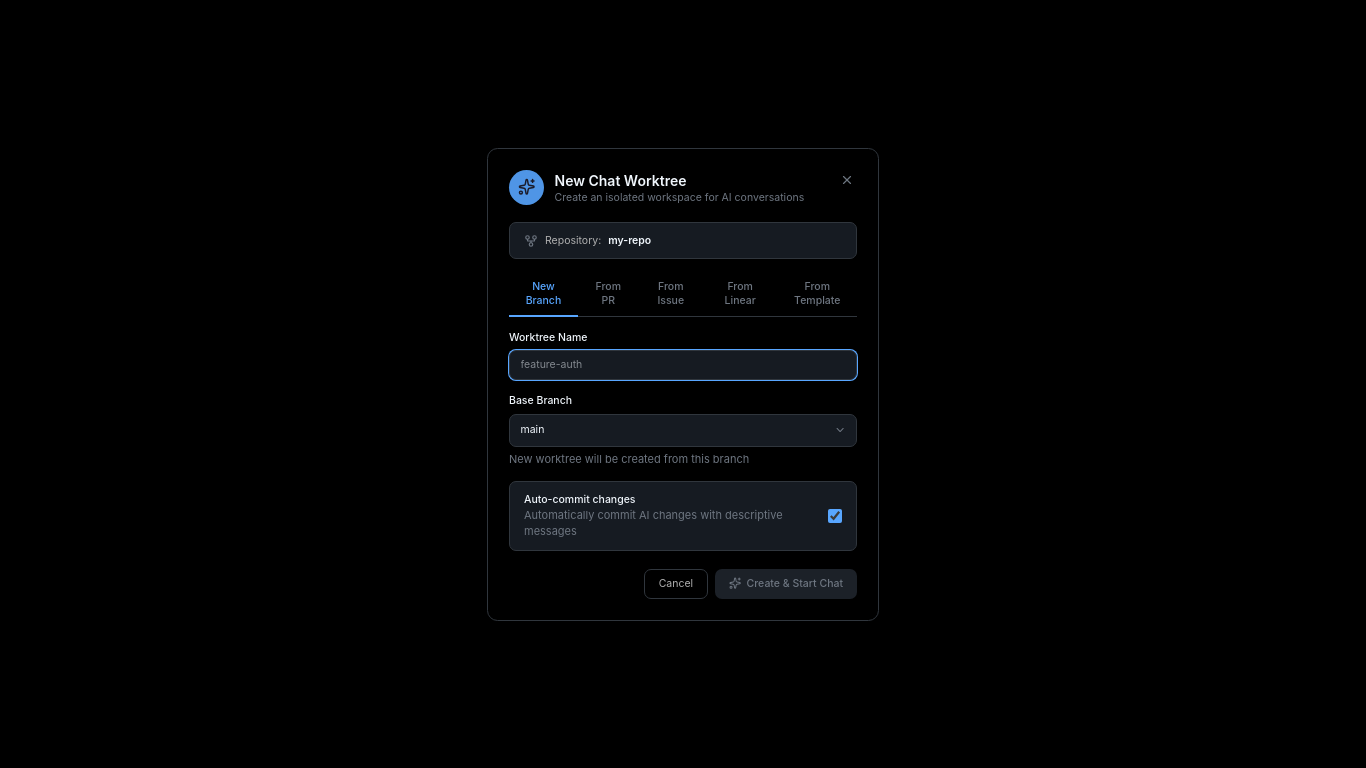
Test: PR mode › shows error when PR fetch fails
The image size is (1366, 768).
Expected: the dropdown is enabled, 509,414 -> 857,447
Step 1. Click the button "From PR" → (608, 295), box 581,273 -> 635,317
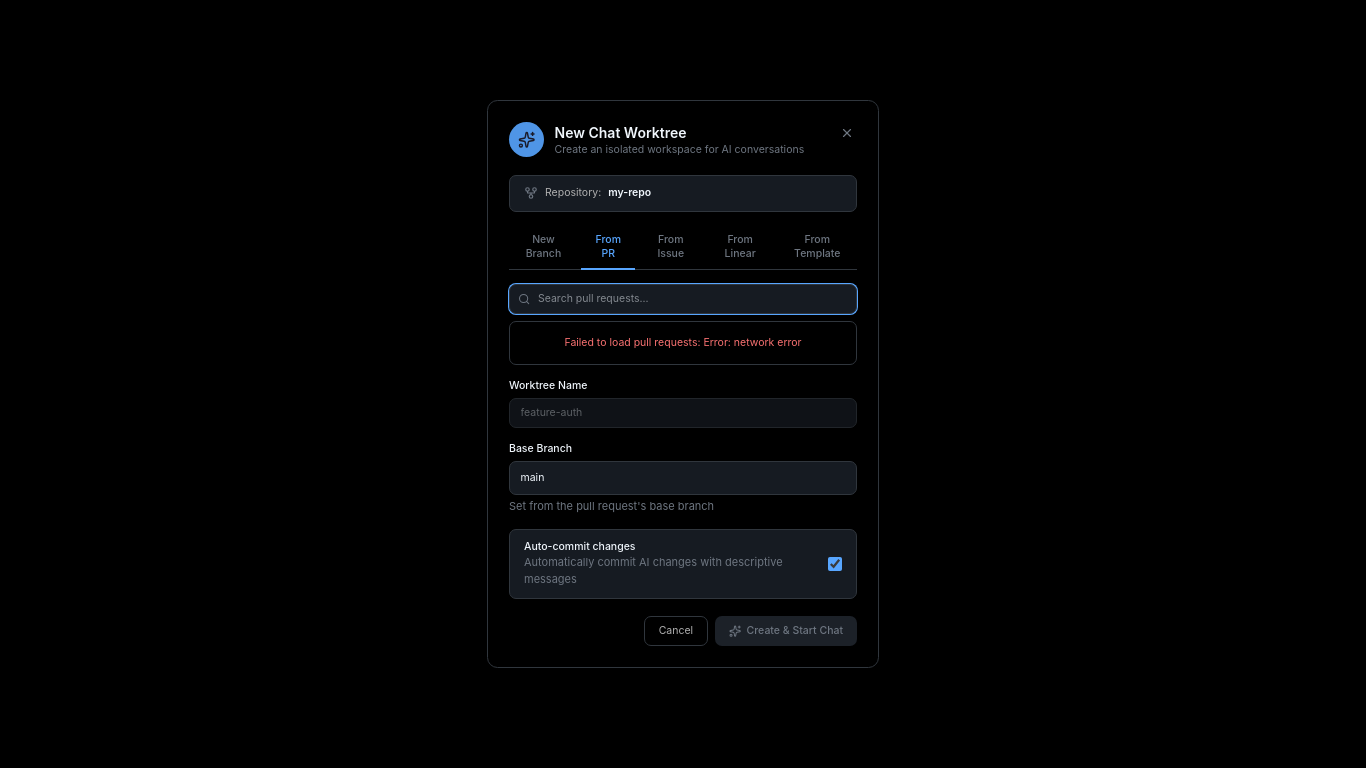
Now the text "Failed to load pull requests: Error: network error" is shown, box 564,336 -> 802,348
